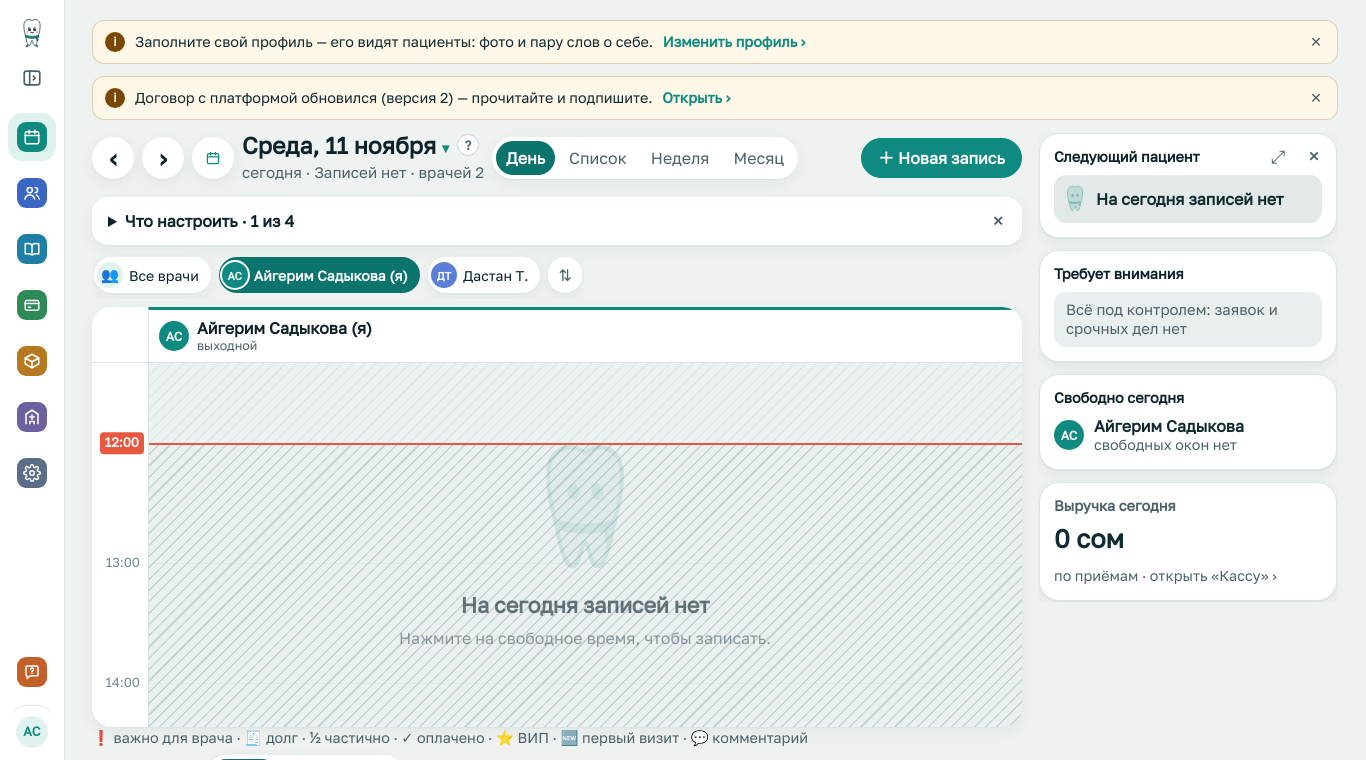
it: напоминание скрывается ✕ до конца сеанса, новое — видно
The width and height of the screenshot is (1366, 760).
(page scrolled)
Expected: the button "Договор с платформой обновился" is shown, 135,83 -> 1291,113
Step 1. Click the button named "Скрыть напоминание до конца сеанса" → [1316, 98], box 1301,83 -> 1331,113
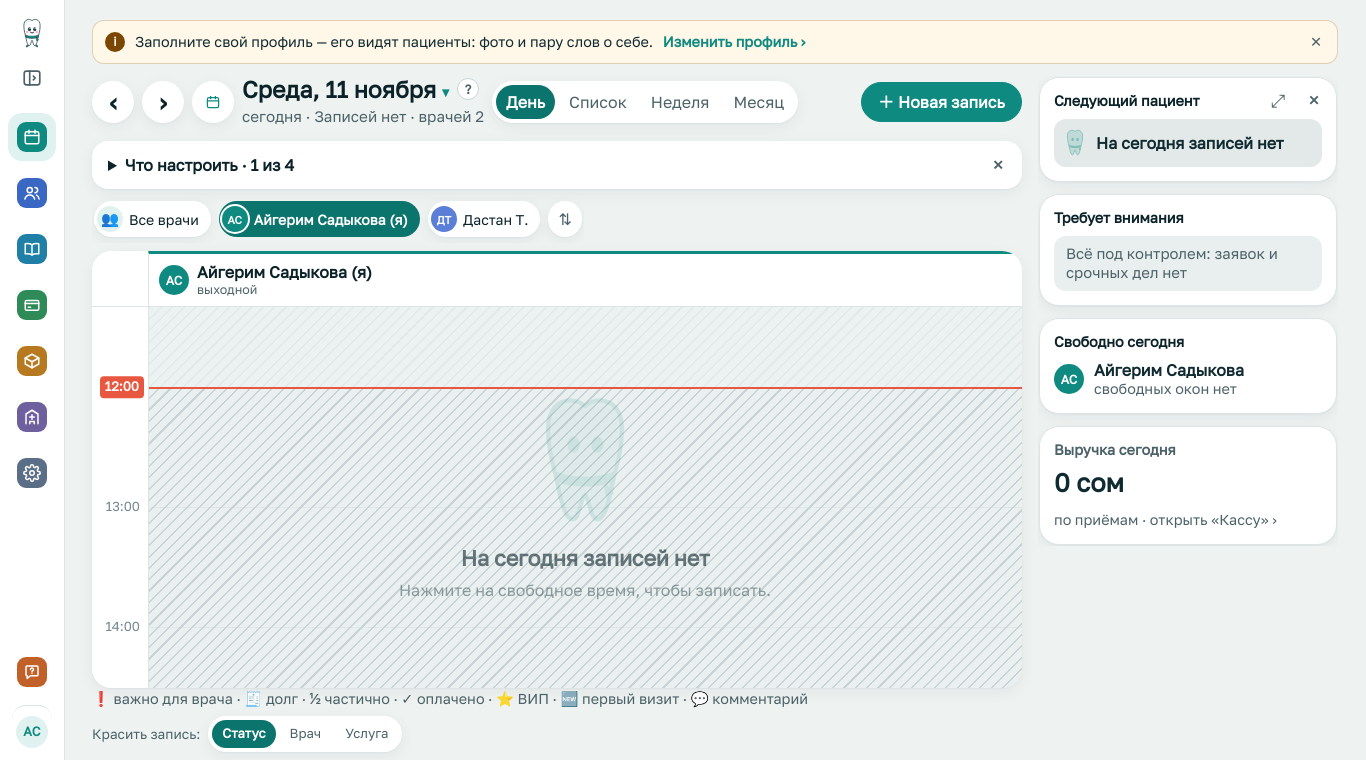
Now the button "Договор с платформой обновился" is gone
